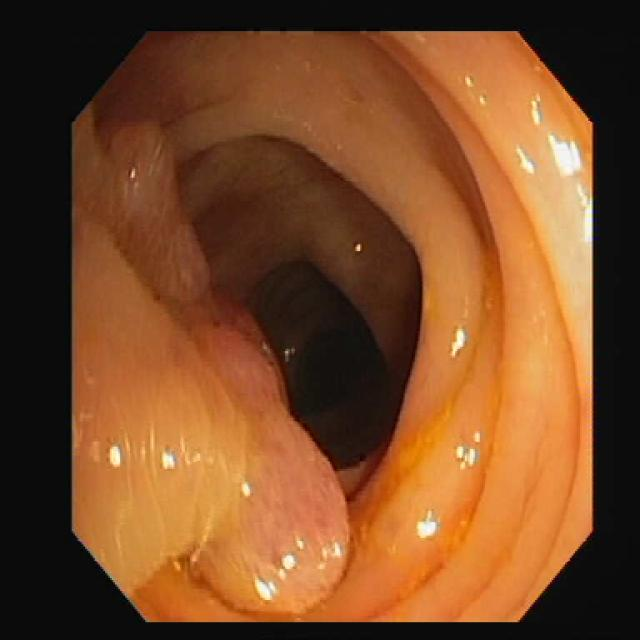tumor: (75, 102, 347, 618)
